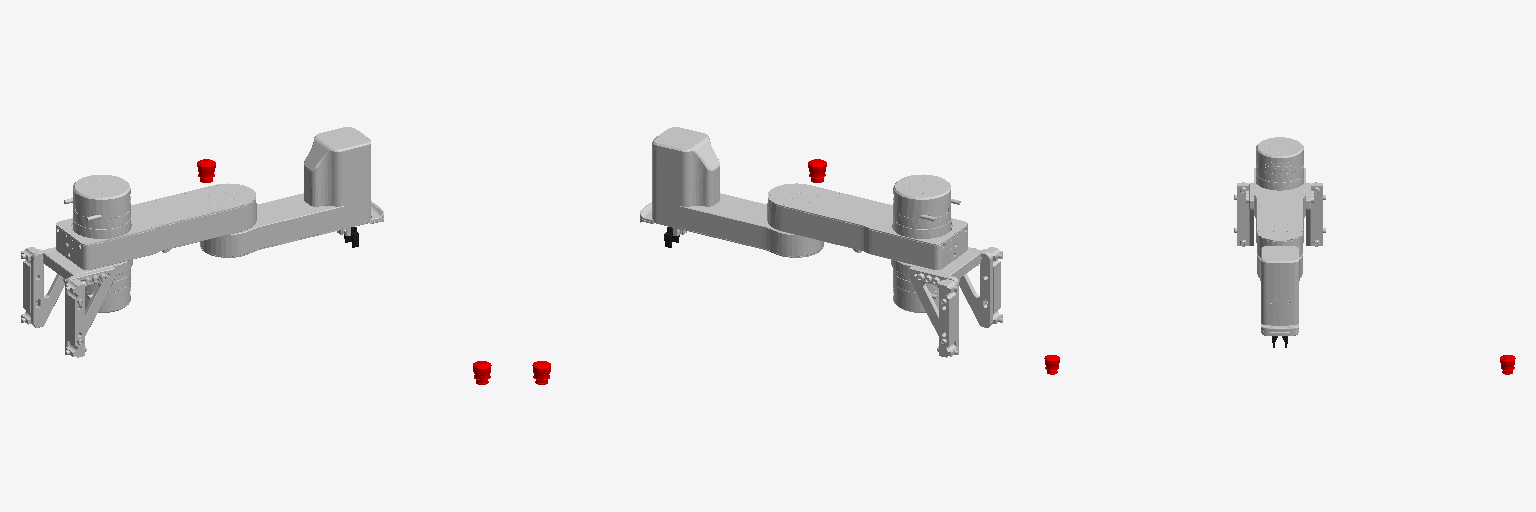
URDF robot description (scara_v2):
<?xml version="1.0" ?>
<!-- =================================================================================== -->
<!-- |    This document was autogenerated by xacro from scara_v2_with_gripper_urdf.xacro | -->
<!-- |    EDITING THIS FILE BY HAND IS NOT RECOMMENDED                                 | -->
<!-- =================================================================================== -->
<robot name="scara_v2" xmlns:xacro="http://www.ros.org/wiki/xacro">
  <!--  Material Color definitions -->
  <material name="white">
    <color rgba="1 1 1 1"/>
  </material>
  <material name="blue">
    <color rgba="0 0 1 1"/>
  </material>
  <material name="red">
    <color rgba="1 0 0 1"/>
  </material>
  <material name="green">
    <color rgba="0 1 0 1"/>
  </material>
  <material name="sensoSilver">
    <color rgba="0.839216 0.839216 0.839216 1"/>
  </material>
  <material name="sensoBlack">
    <color rgba="0 0 0 1 "/>
  </material>
  <material name="sensoGray">
    <color rgba="0.466667 0.533333 0.6 1 "/>
  </material>
  <material name="sensoDarkGray">
    <color rgba="0.156863 0.156863 0.156863 1 "/>
  </material>
  <!--****************************-->
  <!--****************************-->
  <!-- Link and Joint definitions  -->
  <link name="world"/>
  <joint name="world_to_BaseBox" type="fixed">
    <parent link="world"/>
    <child link="BaseBox"/>
    <origin rpy="0 0 0" xyz="0 0 0.965"/>
    <axis xyz="1 0 0"/>
  </joint>
  <!--           TABLE             -->
  <link name="BaseBox">
    <inertial>
      <origin rpy="0 0 0" xyz="0 0 0"/>
      <mass value="1"/>
      <inertia ixx="1" ixy="0" ixz="0" iyy="1" iyz="0" izz="1"/>
    </inertial>
    <visual>
      <origin rpy="0 0 0" xyz="0 0 0"/>
      <geometry>
        <mesh filename="package://scara_v2_with_gripper/meshes/baseBox.STL"/>
      </geometry>
      <material name="sensoGray">
            </material>
    </visual>
    <collision>
      <origin rpy="0 0 0" xyz="0 0 0"/>
      <geometry>
        <!--?????????-->
        <mesh filename="package://scara_v2_with_gripper/meshes/baseBox_modif.stl"/>
      </geometry>
    </collision>
  </link>
  <link name="CentralStop1">
    <inertial>
      <origin rpy="0 0 0" xyz="0 0 0"/>
      <mass value="0"/>
      <inertia ixx="1" ixy="0" ixz="0" iyy="1" iyz="0" izz="1"/>
    </inertial>
    <visual>
      <origin rpy="0 0 0" xyz="0 0 0"/>
      <geometry>
        <mesh filename="package://scara_v2_with_gripper/meshes/CentralStop1.STL"/>
      </geometry>
      <material name="red">
            </material>
    </visual>
    <collision>
      <origin rpy="0 0 0" xyz="0 0 0"/>
      <geometry>
        <mesh filename="package://scara_v2_with_gripper/meshes/CentralStop1_modif.stl"/>
      </geometry>
    </collision>
  </link>
  <joint name="Joint_CentralStop1" type="fixed">
    <parent link="BaseBox"/>
    <child link="CentralStop1"/>
    <origin rpy="-3.8218E-18 -1.301E-16 -3.1416" xyz="0.69 0.11 -0.0015"/>
    <axis xyz="1 0 0"/>
  </joint>
  <link name="CentralStop2">
    <inertial>
      <origin rpy="0 0 0" xyz="0 0 0"/>
      <mass value="1"/>
      <inertia ixx="1" ixy="0" ixz="0" iyy="1" iyz="0" izz="1"/>
    </inertial>
    <visual>
      <origin rpy="0 0 0" xyz="0 0 0"/>
      <geometry>
        <mesh filename="package://scara_v2_with_gripper/meshes/CentralStop2.STL"/>
      </geometry>
      <material name="red">
            </material>
    </visual>
    <collision>
      <origin rpy="0 0 0" xyz="0 0 0"/>
      <geometry>
        <mesh filename="package://scara_v2_with_gripper/meshes/CentralStop2_modif.stl"/>
      </geometry>
    </collision>
  </link>
  <joint name="Joint_CentralStop2" type="fixed">
    <parent link="BaseBox"/>
    <child link="CentralStop2"/>
    <origin rpy="-3.8218E-18 -1.301E-16 -3.1416" xyz="0.69 1.05 -0.0015"/>
    <axis xyz="1 0 0"/>
  </joint>
  <!-- ******************************-->
  <!--             SCARA             -->
  <link name="ScaraBase">
    <inertial>
      <origin rpy="0 0 0" xyz="0 0 0"/>
      <mass value="1"/>
      <inertia ixx="1" ixy="0" ixz="0" iyy="1" iyz="0" izz="1"/>
    </inertial>
    <visual>
      <origin rpy="0 0 0" xyz="0 0 0"/>
      <geometry>
        <mesh filename="package://scara_v2_with_gripper/meshes/ScaraBase.STL"/>
      </geometry>
      <material name="sensoSilver">
            </material>
    </visual>
    <collision>
      <origin rpy="0 0 0" xyz="0 0 0"/>
      <geometry>
        <mesh filename="package://scara_v2_with_gripper/meshes/ScaraBase.STL"/>
      </geometry>
    </collision>
  </link>
  <joint name="Joint_ScaraBase" type="fixed">
    <parent link="BaseBox"/>
    <child link="ScaraBase"/>
    <origin rpy="1.5708 0 0" xyz="0.212 0.58 0.141"/>
    <axis xyz="1 0 0"/>
  </joint>
  <link name="ScaraLink1">
    <inertial>
      <origin rpy="-1.57 0 0" xyz="0 0 0"/>
      <mass value="3.8063"/>
      <inertia ixx="7.8753E-3" ixy="4.6431E-3" ixz="-1.4702E-5" iyy="6.1309E-2" iyz="-5.8992E-6" izz="6.2681E-2"/>
    </inertial>
    <visual>
      <origin rpy="-1.57 0 0" xyz="0 0 0"/>
      <geometry>
        <mesh filename="package://scara_v2_with_gripper/meshes/ScaraLink1.STL"/>
        <!--ScaraLink1.STL-->
      </geometry>
      <material name="sensoSilver">
            </material>
    </visual>
    <collision>
      <origin rpy="-1.57 0 0" xyz="0 0 0"/>
      <geometry>
        <mesh filename="package://scara_v2_with_gripper/meshes/ScaraLink1.STL"/>
      </geometry>
    </collision>
  </link>
  <joint name="Joint1" type="revolute">
    <parent link="ScaraBase"/>
    <child link="ScaraLink1"/>
    <origin rpy="1.57 0 0" xyz="0 0.051 0"/>
    <axis xyz="0 0 1"/>
    <!--<limit effort="0" lower="-1.57079" upper="1.57079" velocity="0"/>-->
    <limit effort="0" lower="-1.4835298642" upper="1.4835298642" velocity="0"/>
  </joint>
  <link name="ScaraLink2">
    <inertial>
      <origin rpy="1.57 1.57 0" xyz="0 0 0"/>
      <mass value="1.5020"/>
      <inertia ixx="5.0471E-2" ixy="3.0689E-4" ixz="-8.5622E-4" iyy="4.7456E-2" iyz="8.7643E-3" izz="5.2228E-3"/>
    </inertial>
    <visual>
      <origin rpy="1.57 0 0" xyz="0 0 0"/>
      <geometry>
        <mesh filename="package://scara_v2_with_gripper/meshes/ScaraLink2.STL"/>
      </geometry>
      <material name="sensoSilver">
            </material>
    </visual>
    <collision>
      <origin rpy="0 1.57 0" xyz="0 0 0"/>
      <geometry>
        <mesh filename="package://scara_v2_with_gripper/meshes/ScaraLink2.STL"/>
      </geometry>
    </collision>
  </link>
  <joint name="Joint2" type="revolute">
    <parent link="ScaraLink1"/>
    <child link="ScaraLink2"/>
    <origin rpy="0 0 1.57" xyz="0.24972  0 0.081"/>
    <axis xyz="0 0 1"/>
    <!--<limit effort="0" lower="-2.65" upper="2.65" velocity="0"/>-->
    <limit effort="0" lower="-2.9670597284" upper="2.9670597284" velocity="0"/>
  </joint>
  <!--**********************************-->
  <!--     GRIPPER JOINTS DEFINITION    -->
  <!--Revolute joint for IKfast-->
  <link name="fake_link"/>
  <joint name="fake_joint" type="revolute">
    <parent link="ScaraLink2"/>
    <child link="fake_link"/>
    <!--<origin xyz="0 -0.24305 0.0424 " rpy="0 0 3.1416" />-->
    <origin rpy="0 0 3.1416" xyz="0 -0.24305 -0.0424 "/>
    <axis xyz="0 0 1"/>
    <limit effort="1000.0" lower="0.0" upper="0.001" velocity="0"/>
  </joint>
  <link name="GripperBase">
    <inertial>
      <origin rpy="1.57 0 0" xyz="0 0 0"/>
      <mass value="1"/>
      <inertia ixx="1E-6" ixy="0" ixz="0" iyy="1E-6" iyz="0" izz="1E-6"/>
    </inertial>
    <visual>
      <origin rpy="1.57 0 0" xyz="0 0 0"/>
      <geometry>
        <mesh filename="package://scara_v2_with_gripper/meshes/GripperBase.STL"/>
      </geometry>
      <material name="sensoDarkGray">
            </material>
    </visual>
    <collision>
      <origin rpy="1.57 0 0" xyz="0 0 0"/>
      <geometry>
        <mesh filename="package://scara_v2_with_gripper/meshes/GripperBase.STL"/>
      </geometry>
    </collision>
  </link>
  <joint name="Joint_GripperBase" type="prismatic">
    <parent link="fake_link"/>
    <child link="GripperBase"/>
    <origin rpy="0 0 0" xyz="0 0 0"/>
    <!--<origin xyz="0 -0.0424 0.24305" rpy="3.1416 0 3.1416" />-->
    <axis xyz="0 0 1"/>
    <limit effort="1000.0" lower="-0.04" upper="0.05" velocity="1"/>
  </joint>
  <link name="tool0"/>
  <joint name="Base_to_tool0" type="fixed">
    <parent link="GripperBase"/>
    <child link="tool0"/>
    <origin rpy="0 0 0 " xyz="0 0 0.0984"/>
    <axis xyz="0 0 0"/>
  </joint>
  <link name="GripperLeft">
    <inertial>
      <origin rpy="3.14 0 0" xyz="0 0 0"/>
      <mass value="1"/>
      <inertia ixx="1E-6" ixy="0" ixz="0" iyy="1E-6" iyz="0" izz="1E-6"/>
    </inertial>
    <visual>
      <origin rpy="3.14 0 0" xyz="0 0 0"/>
      <geometry>
        <mesh filename="package://scara_v2_with_gripper/meshes/gripperLeft_full.STL"/>
      </geometry>
      <material name="sensoDarkGray">
            </material>
    </visual>
    <collision>
      <origin rpy="3.14 0 0" xyz="0 0 0"/>
      <geometry>
        <mesh filename="package://scara_v2_with_gripper/meshes/gripperLeft_full.STL"/>
      </geometry>
    </collision>
  </link>
  <joint name="Joint_Gripper" type="prismatic">
    <parent link="GripperBase"/>
    <child link="GripperLeft"/>
    <origin rpy="-1.57 0 0" xyz="-0.0162 0 0.0984"/>
    <axis xyz="1 0 0"/>
    <limit effort="1000.0" lower="0" upper="0.003" velocity="1"/>
  </joint>
  <link name="GripperRight">
    <inertial>
      <origin rpy="3.14 0 0" xyz="0 0 0"/>
      <mass value="1"/>
      <inertia ixx="1E-6" ixy="0" ixz="0" iyy="1E-6" iyz="0" izz="1E-6"/>
    </inertial>
    <visual>
      <origin rpy="3.14 0 0" xyz="0 0 0"/>
      <geometry>
        <mesh filename="package://scara_v2_with_gripper/meshes/gripperRight_full.STL"/>
      </geometry>
      <material name="sensoDarkGray">
            </material>
    </visual>
    <collision>
      <origin rpy="3.14 0 0" xyz="0 0 0"/>
      <geometry>
        <mesh filename="package://scara_v2_with_gripper/meshes/gripperRight_full.STL"/>
      </geometry>
    </collision>
  </link>
  <joint name="Joint_GripperRight" type="prismatic">
    <parent link="GripperBase"/>
    <child link="GripperRight"/>
    <origin rpy="1.57 0 3.1416" xyz="0.0165 0 0.0984"/>
    <axis xyz="1 0 0"/>
    <limit effort="1000.0" lower="0" upper="0.003" velocity="1"/>
    <mimic joint="Joint_Gripper" multiplier="1" offset="0"/>
  </joint>
</robot>

--- Facts derived from the render (not from the file) ---
3 views of the same robot in one strip: view 1: azimuth 30°, elevation 25°; view 2: azimuth 150°, elevation 25°; view 3: azimuth 270°, elevation 25° (orthographic).
Model scara_v2 with 12 links and 11 joints (3 revolute, 3 prismatic, 5 fixed), rooted at world, posed every joint at zero.
Visible links, largest first — view 1: ScaraLink1, ScaraLink2, ScaraBase; view 2: ScaraLink1, ScaraLink2, ScaraBase; view 3: ScaraLink1, ScaraLink2, ScaraBase.
Link boxes in pixels (left/top/right/bottom): ScaraLink1: left=56, top=175, right=256, bottom=269; ScaraLink2: left=200, top=127, right=383, bottom=257; ScaraBase: left=21, top=247, right=132, bottom=357; ScaraLink1: left=767, top=174, right=967, bottom=269; ScaraLink2: left=640, top=127, right=823, bottom=257; ScaraBase: left=891, top=247, right=1002, bottom=357; ScaraLink1: left=1254, top=137, right=1305, bottom=257; ScaraLink2: left=1257, top=246, right=1302, bottom=335; ScaraBase: left=1234, top=182, right=1325, bottom=246.
Size in the robot's own frame: 0.656 by 0.972 by 0.2912 metres.
Meshes: 9 distinct files referenced, 7 mesh visuals loaded (7 binary STL); not drawn: 2 (reference not matched to a file when rendering).